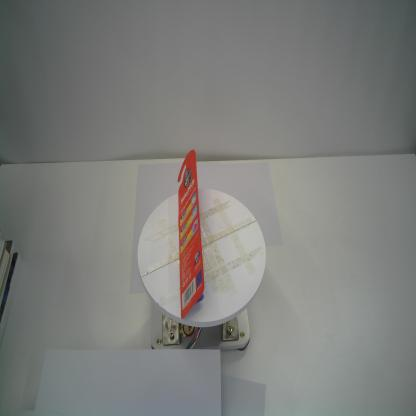Personal Hygiene: (178, 149, 205, 319)
